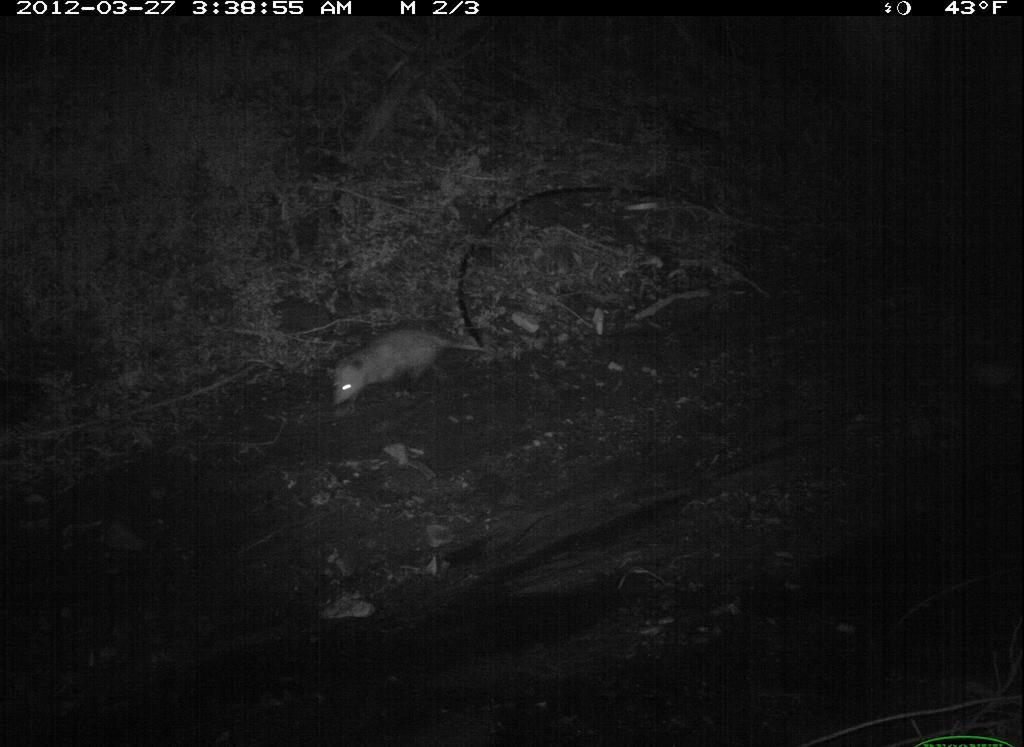opossum: (324, 323, 500, 409)
